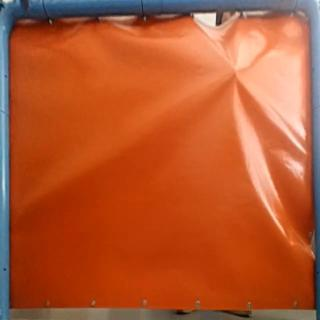Hit-hRxx: (224, 59, 250, 84)
